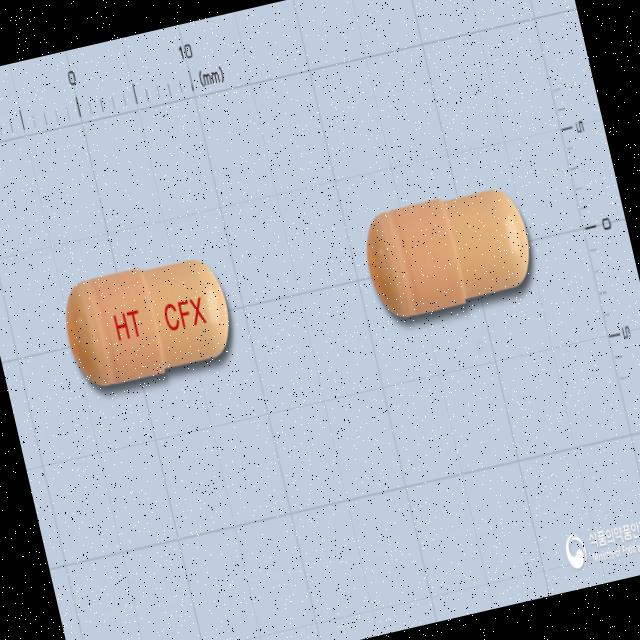Cefaxime Cap: (49, 240, 246, 408), (355, 175, 544, 331)
